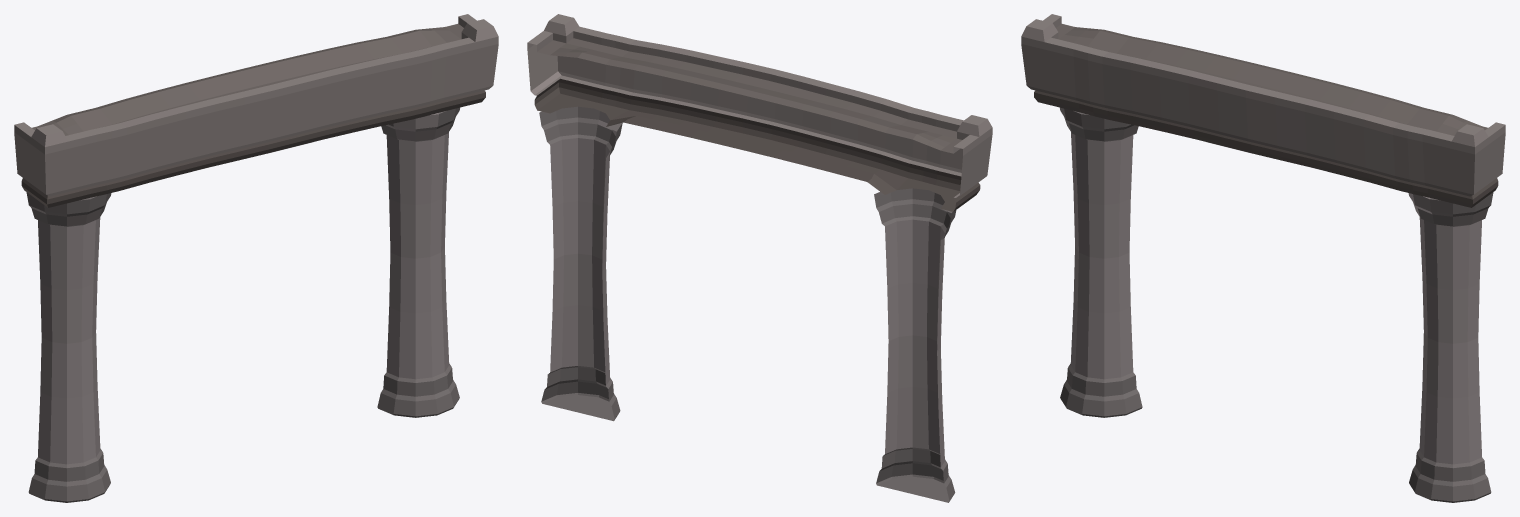
Rendered from doorframe.fbx.
3 renders of one model, left to right at view 1: azimuth 30°, elevation 25°; view 2: azimuth 150°, elevation 25°; view 3: azimuth 330°, elevation 25°, orthographic. The views are drawn at different scales.
Visible parts, largest first — view 1: doorframe; view 2: doorframe; view 3: doorframe.
Boxes of the visible parts, x1,y1,x2,y2 form: doorframe: (14,14,498,502); doorframe: (527,14,992,502); doorframe: (1021,14,1505,502).
Size of the model in its own units: 1561 by 1257 by 197.
